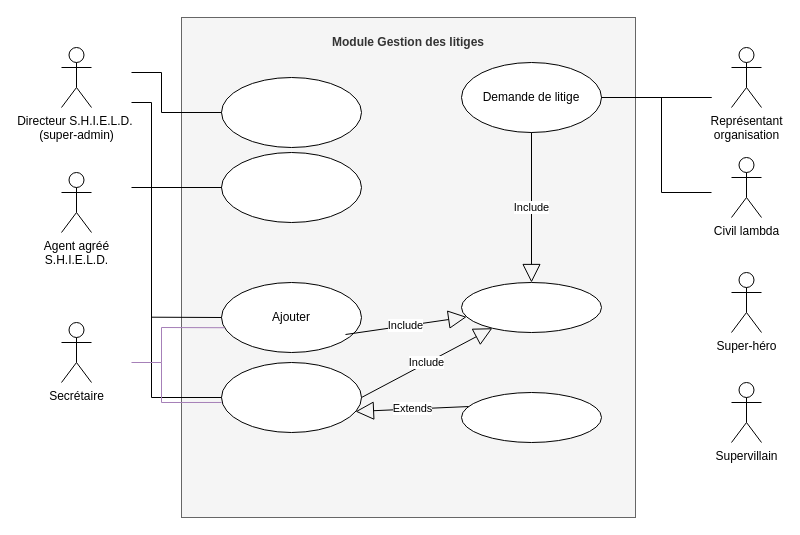
The diagram is 800 pixels wide and 535 high, and some of its shapes have lost their labels. The centre of each missing label's shape, as x and y in pixels:
Archiver: (x=531, y=417)
Modifier: (x=291, y=397)
Supprimer: (x=291, y=112)
Utiliser des reportings: (x=291, y=187)
Valider/Refuser: (x=531, y=307)
